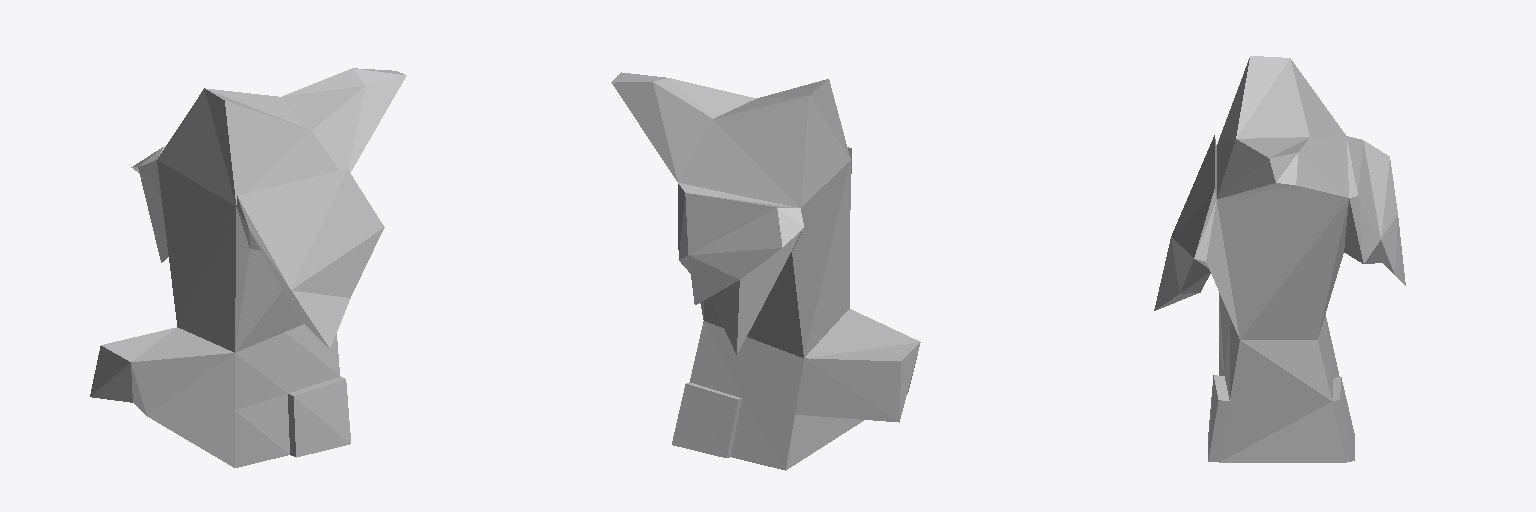
Rendered from badbird_2.obj.
3 views of the same model, side by side, from view 1: azimuth 30°, elevation 25°; view 2: azimuth 150°, elevation 25°; view 3: azimuth 270°, elevation 25° (orthographic).
Visible parts, largest first — view 1: Cube; view 2: Cube; view 3: Cube.
Part boxes in pixels (bbox=[...]): Cube: bbox=[90, 68, 406, 467]; Cube: bbox=[611, 72, 920, 470]; Cube: bbox=[1154, 56, 1405, 462].
Size of the model in its own units: 5.39 by 6.15 by 3.95.